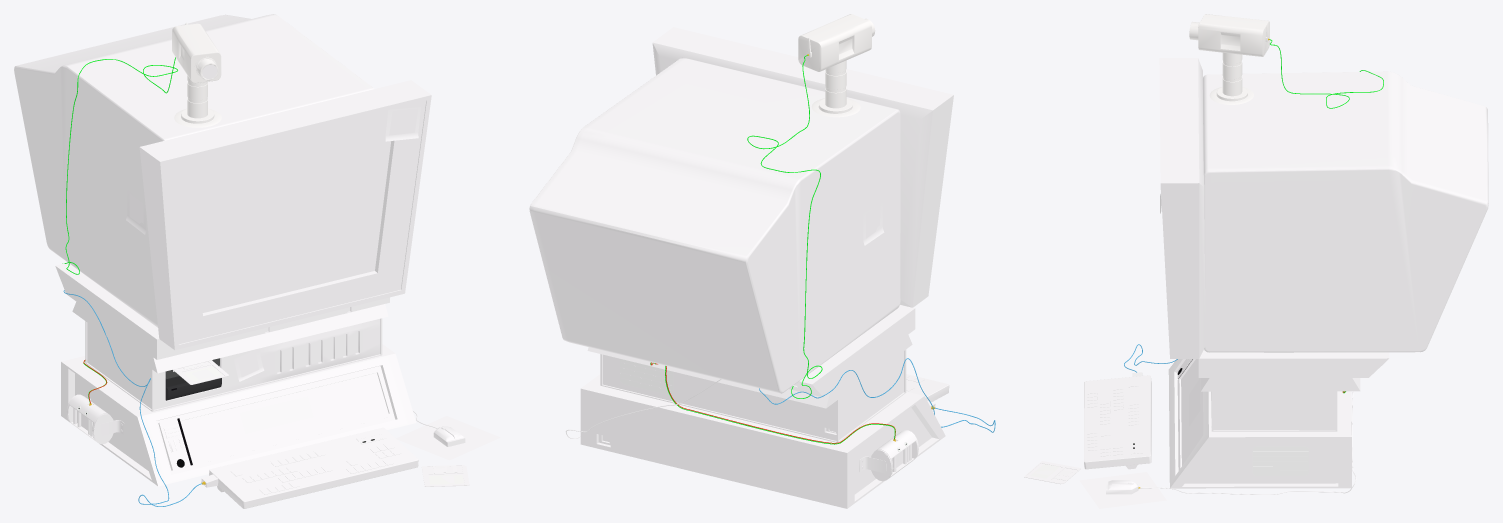
File: nebula.glb
3 views of the same model, side by side, from view 1: azimuth 30°, elevation 25°; view 2: azimuth 150°, elevation 25°; view 3: azimuth 270°, elevation 25° (orthographic). The views are drawn at different scales.
Parts seen in each view (by area): view 1: Object_13, Object_5; view 2: Object_13; view 3: Object_13.
Part boxes in pixels (left/top/right/bottom): Object_13: left=14, top=14, right=500, bottom=508; Object_5: left=129, top=108, right=454, bottom=483; Object_13: left=529, top=14, right=995, bottom=508; Object_13: left=1024, top=14, right=1488, bottom=508.
Size of the model in its own units: 2 by 2.29 by 2.51.
3 materials, 3 textured.
